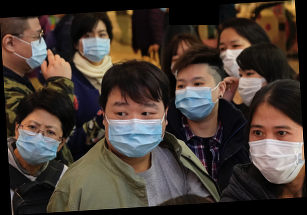with_mask: (104, 98, 165, 160), (249, 121, 304, 184), (15, 117, 61, 167), (173, 74, 217, 122), (16, 27, 48, 71), (219, 37, 251, 79), (78, 28, 112, 65), (237, 67, 264, 105)
